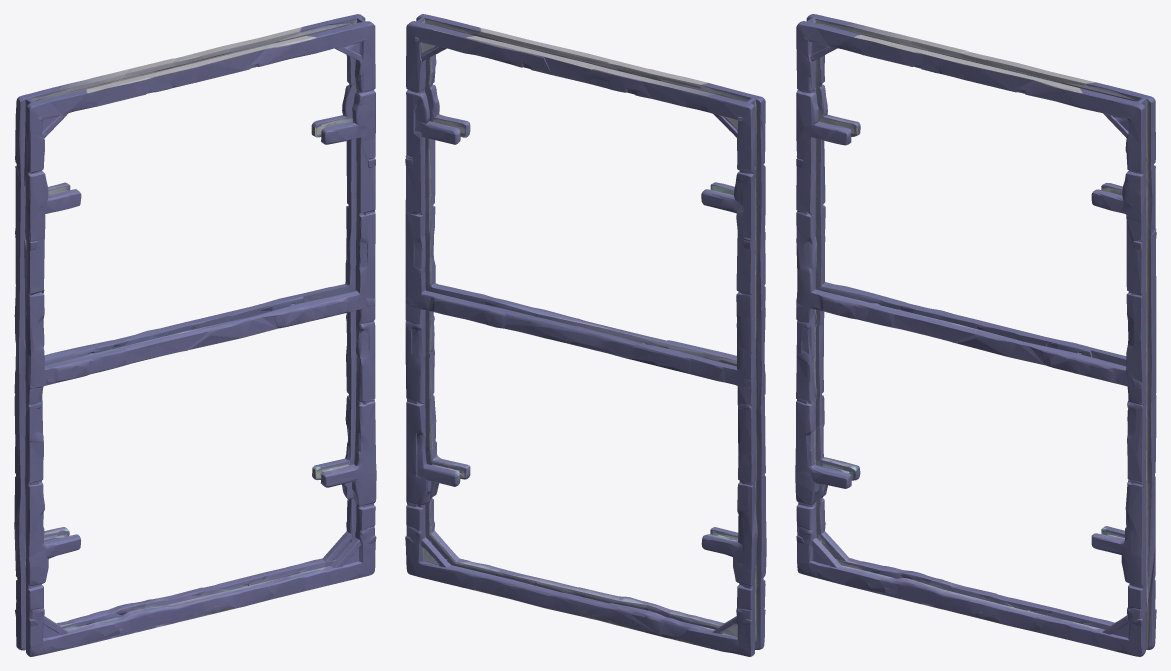
The model's file is handrail-frame.gltf.
The picture shows the model from 3 angles, left to right: view 1: azimuth 30°, elevation 25°; view 2: azimuth 150°, elevation 25°; view 3: azimuth 330°, elevation 25°; orthographic projection.
Bounding box in the file's own units: 1.26 × 1.9 × 0.105.
Materials: 1 (1 with a texture image).
